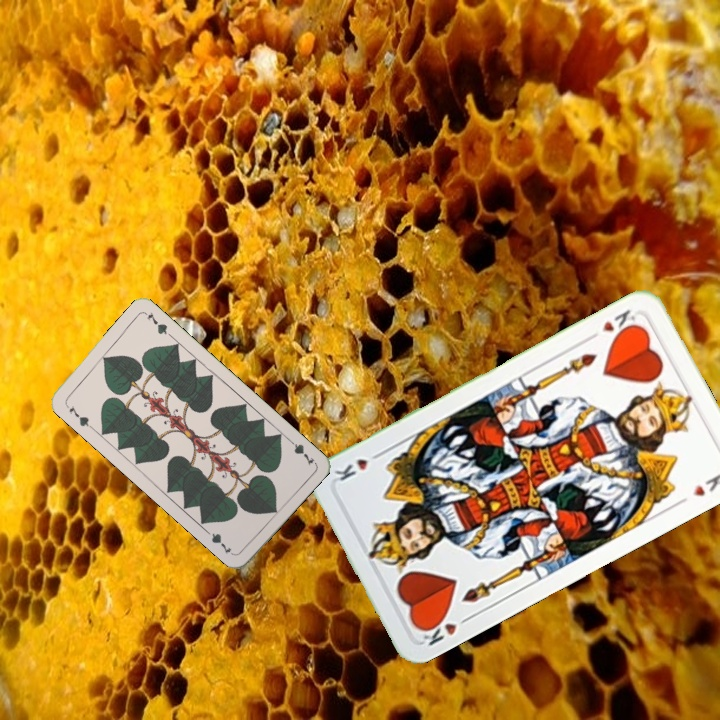G7: (284, 434, 317, 468), (61, 400, 95, 431)
HK: (416, 611, 474, 649), (598, 305, 640, 341)
